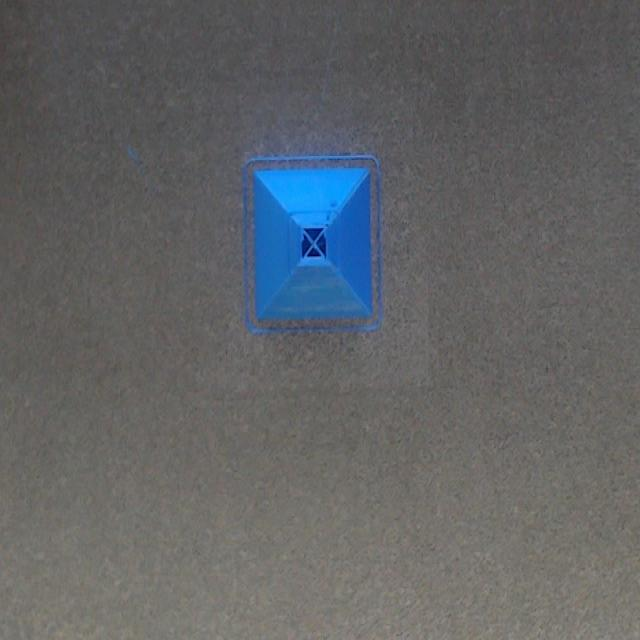mistake: (318, 201, 338, 253)
